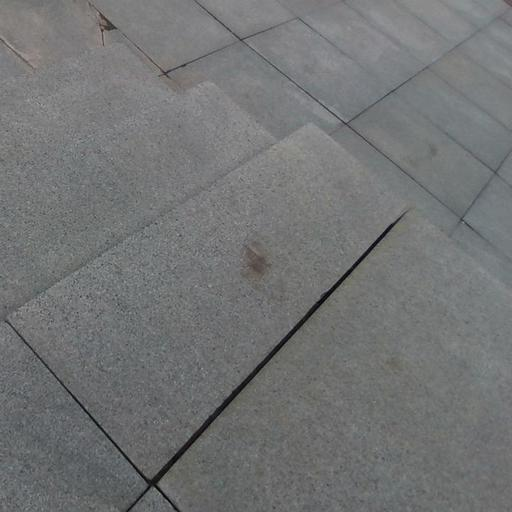stairs: (0, 45, 511, 511)
